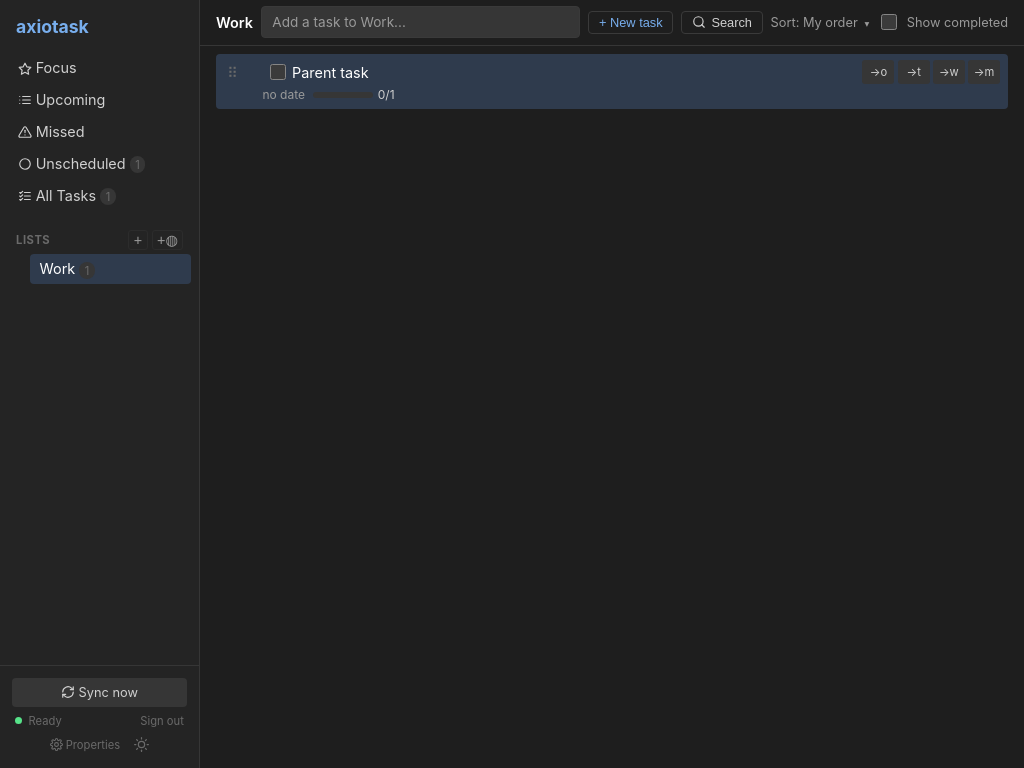
Test case: #87 strict two-level tree › a subtask's detail panel offers no way to add a sub-subtask
The width and height of the screenshot is (1024, 768).
Note: Open the parent — its checklist has the "Add a subtask" field.
Click the text "Parent task": (330, 72) [292,64,369,81]
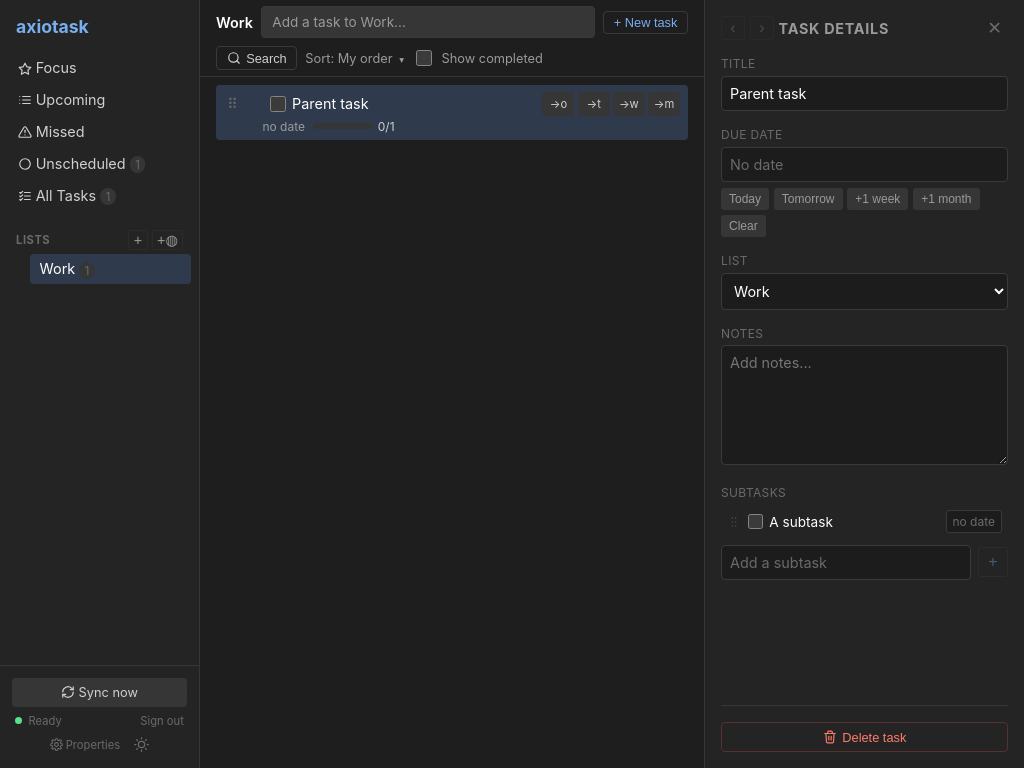
Check: the heading "Task Details" is shown, box [779,20,889,36]
Check: the field named "New subtask" is shown, box [721,544,971,580]
Click the text with class "subtask-title": (801, 522) [769,514,833,530]
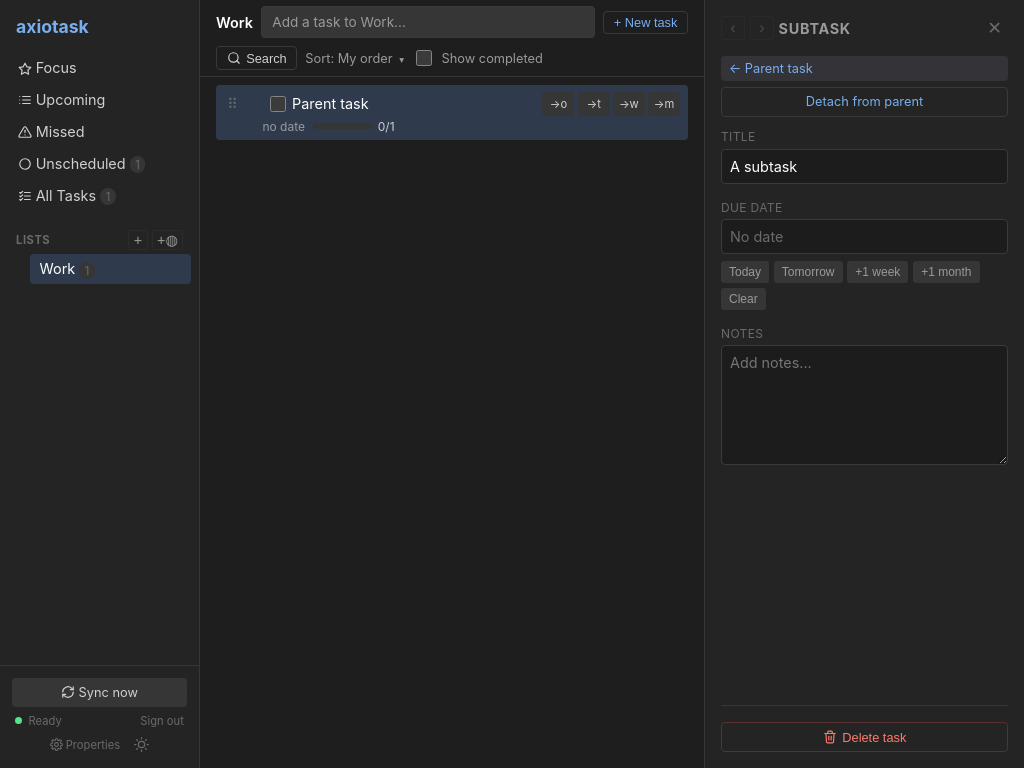
Check: the heading "Subtask" is shown, box [779,20,851,36]
Check: the text "Subtasks" is gone
